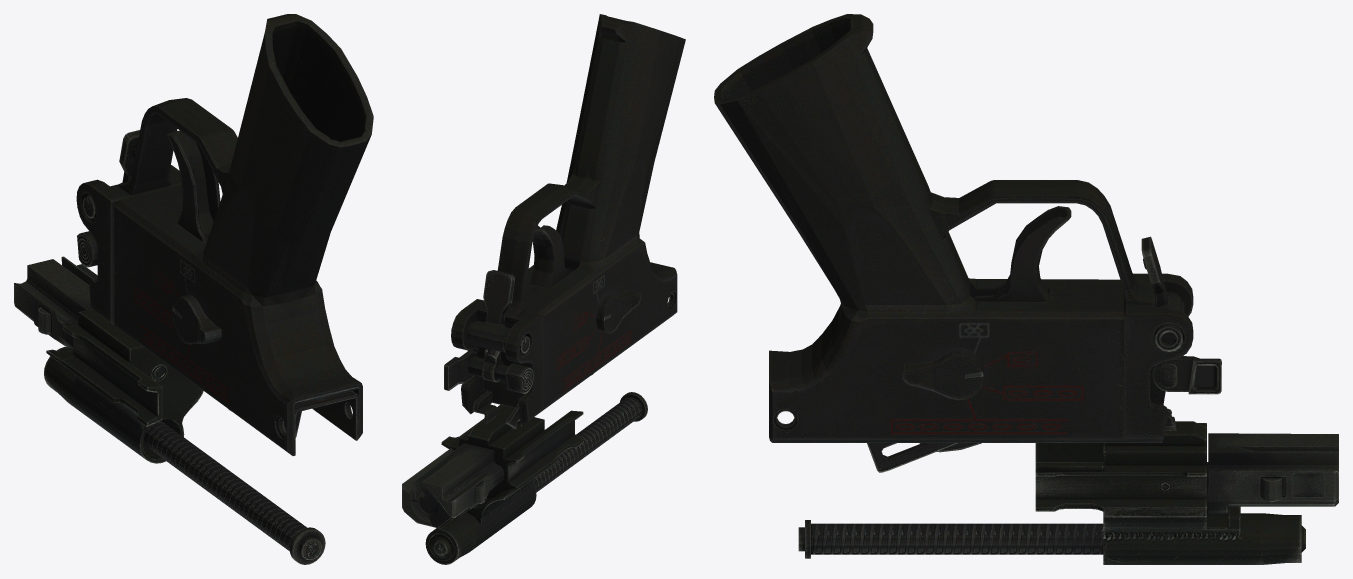
3 views of the same model, side by side, from view 1: azimuth 30°, elevation 25°; view 2: azimuth 150°, elevation 25°; view 3: azimuth 270°, elevation 25° (orthographic). The views are drawn at different scales.
Visible parts, largest first — view 1: TW_5d2f0d8048f0356c925bc3b0_PZ_Import; view 2: TW_5d2f0d8048f0356c925bc3b0_PZ_Import; view 3: TW_5d2f0d8048f0356c925bc3b0_PZ_Import.
Boxes of the visible parts, box(x1,y1,x2,y2) form: TW_5d2f0d8048f0356c925bc3b0_PZ_Import: box(14, 14, 373, 564); TW_5d2f0d8048f0356c925bc3b0_PZ_Import: box(402, 14, 685, 564); TW_5d2f0d8048f0356c925bc3b0_PZ_Import: box(714, 14, 1338, 564).
Size of the model in its own units: 0.0227 by 0.1082 by 0.1034.
1 material, 1 textured.
